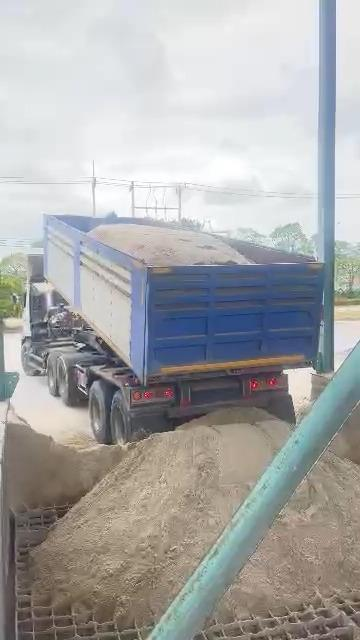sand: (34, 410, 290, 627), (219, 453, 360, 616), (6, 413, 126, 511), (89, 224, 249, 265), (331, 403, 360, 464)
